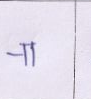aa_matra: (30, 44, 35, 67)
